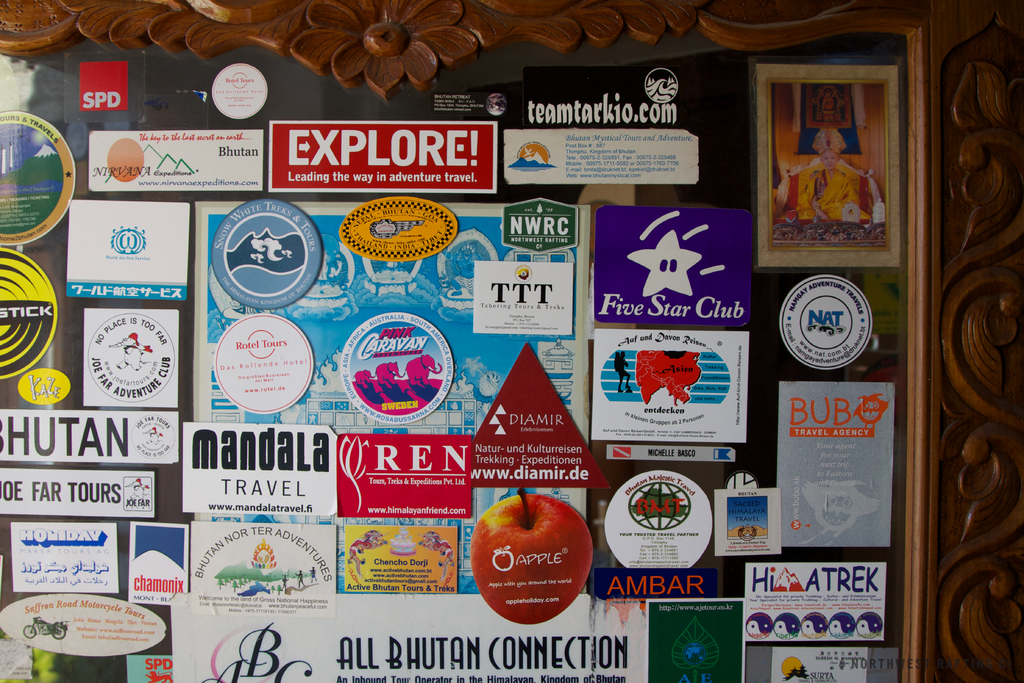Apple: (473, 495, 597, 622)
